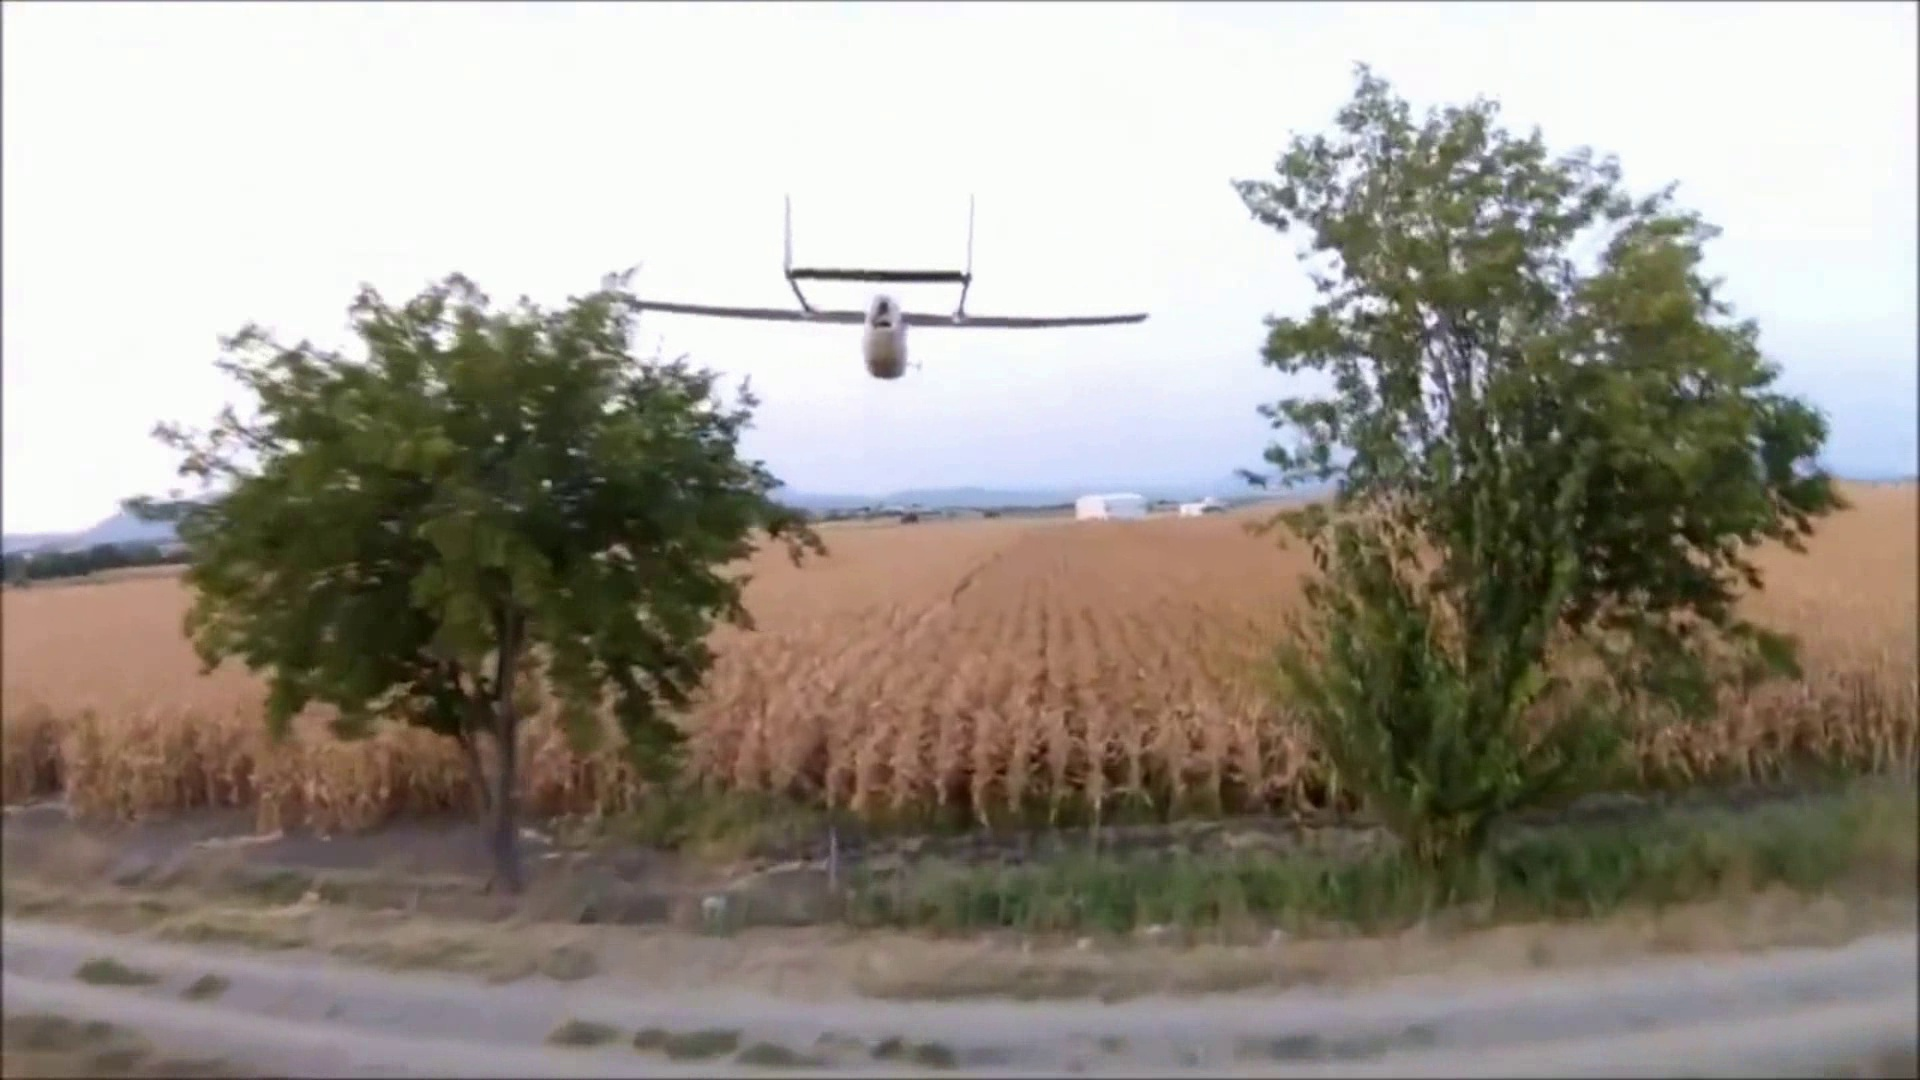airplane: (602, 190, 1150, 381)
